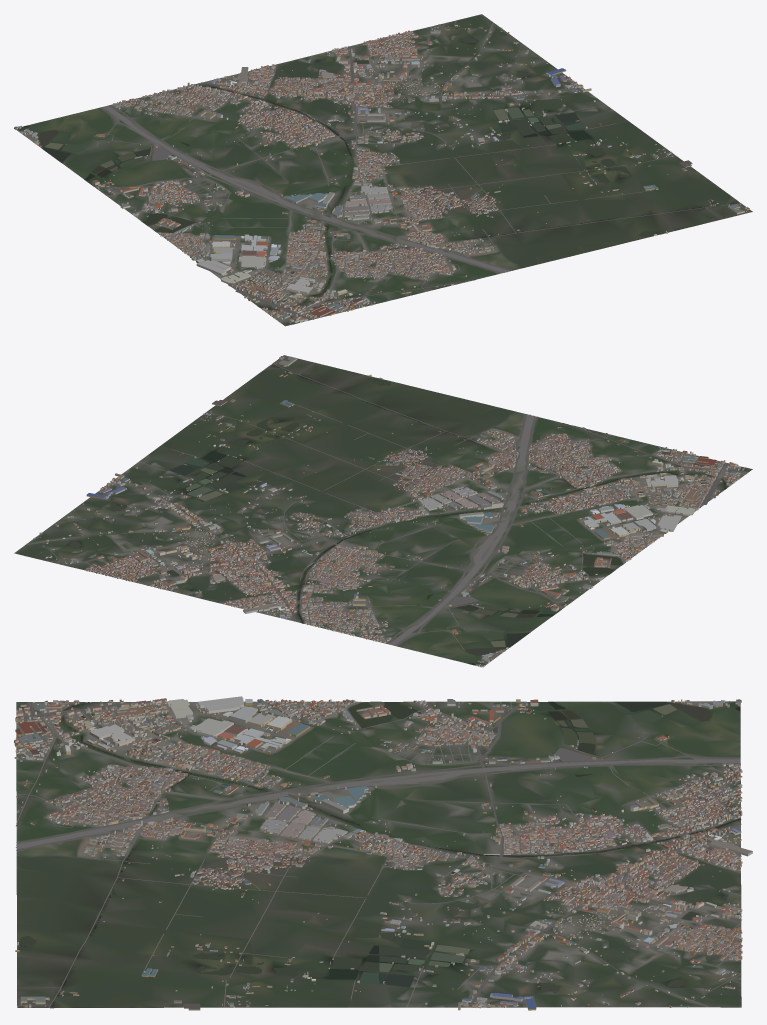
3 renders of one model, top to bottom at view 1: azimuth 30°, elevation 25°; view 2: azimuth 150°, elevation 25°; view 3: azimuth 270°, elevation 25°, orthographic. The views are drawn at different scales.
Visible parts, largest first — view 1: ground, buildings, roads, water; view 2: ground, buildings, roads, water; view 3: ground, buildings, roads, water.
Part boxes in pixels (bbox=[...]): ground: bbox=[16, 14, 752, 326]; buildings: bbox=[14, 21, 749, 323]; roads: bbox=[58, 22, 749, 322]; water: bbox=[19, 33, 736, 311]; ground: bbox=[14, 355, 752, 666]; buildings: bbox=[33, 356, 744, 667]; roads: bbox=[26, 356, 747, 650]; water: bbox=[62, 365, 740, 664]; ground: bbox=[16, 701, 741, 1008]; buildings: bbox=[14, 696, 752, 1010]; roads: bbox=[15, 700, 741, 1007]; water: bbox=[16, 701, 741, 1006].
Size of the model in its own units: 2854 by 28.98 by 2860.
